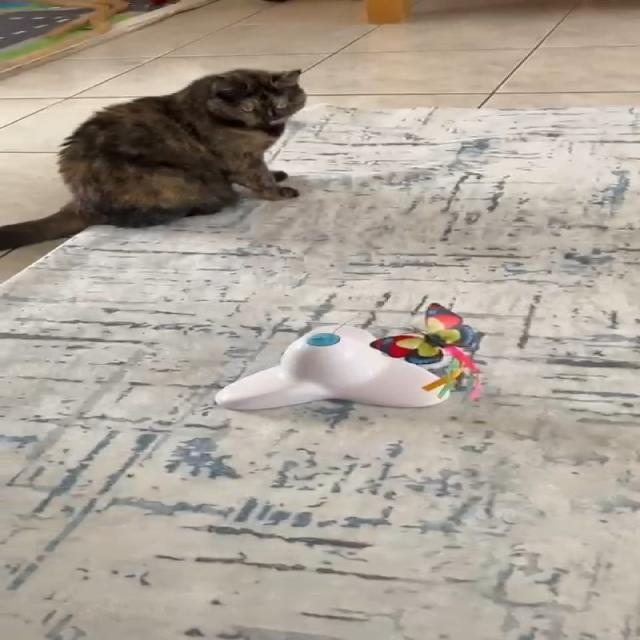authorized: (0, 66, 307, 258)
